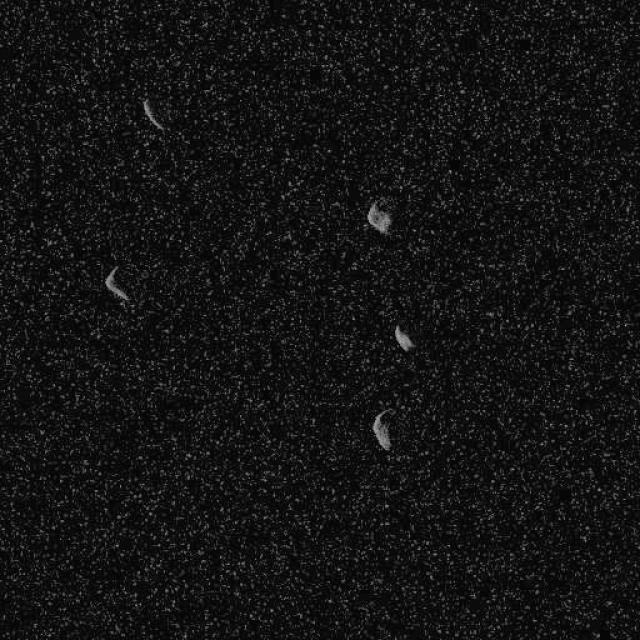D2: (102, 264, 130, 304), (370, 408, 395, 452), (365, 200, 393, 234), (141, 98, 165, 132), (393, 324, 415, 351)
